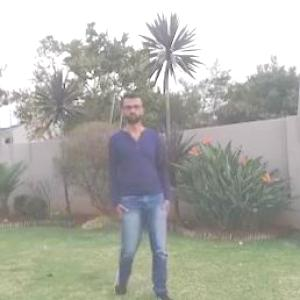follow: (112, 94, 166, 280)
